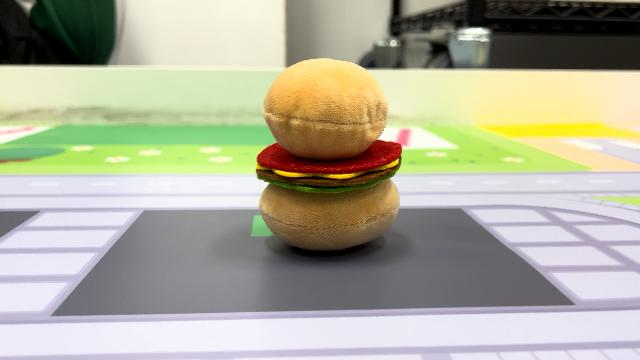burger: (250, 54, 408, 254)
